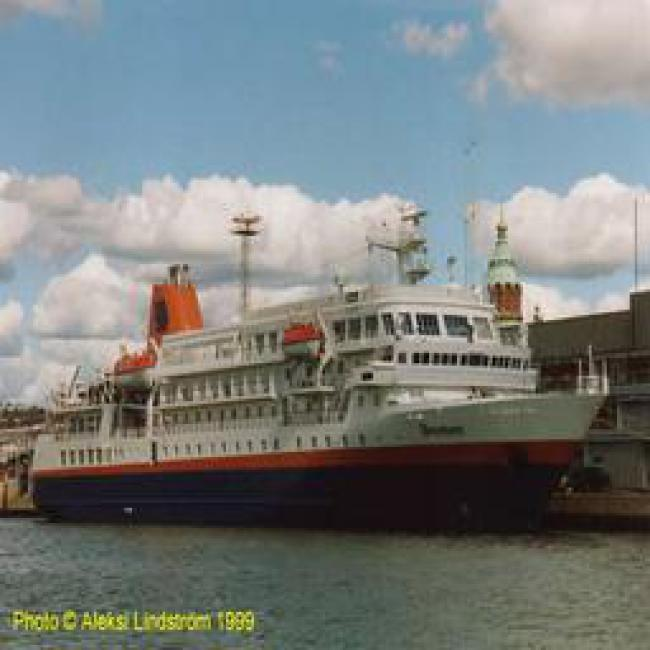Ship: (31, 298, 591, 522)
